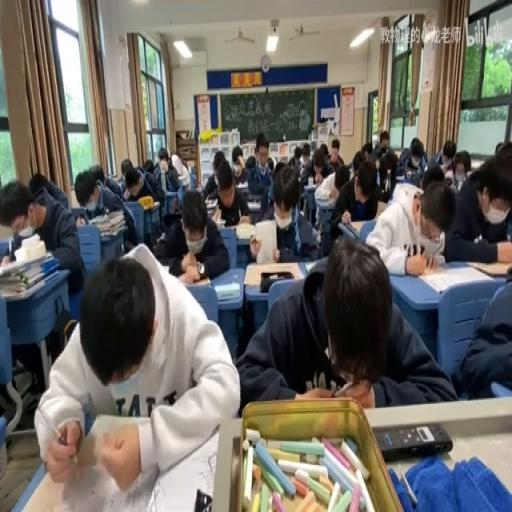calculator: (148, 426, 222, 510), (418, 263, 492, 293), (243, 260, 301, 286), (254, 218, 276, 262), (213, 280, 241, 300), (234, 222, 256, 240), (302, 182, 318, 206), (99, 220, 125, 234), (348, 219, 370, 235), (162, 210, 181, 228), (374, 198, 388, 216), (210, 205, 224, 222), (18, 226, 34, 239), (204, 194, 218, 208), (304, 258, 318, 272), (246, 200, 260, 212), (88, 213, 104, 222), (323, 196, 336, 206), (176, 174, 189, 182), (237, 181, 248, 189), (395, 174, 405, 180)
paper: (37, 243, 238, 484), (234, 234, 450, 410), (0, 176, 82, 309), (443, 148, 512, 260), (150, 185, 228, 280), (262, 165, 320, 257), (326, 158, 381, 250), (243, 131, 275, 206), (120, 164, 162, 219), (200, 148, 235, 203), (397, 135, 428, 184), (152, 148, 182, 195), (376, 150, 398, 200), (96, 164, 122, 200), (312, 142, 334, 179), (421, 162, 444, 192), (229, 145, 246, 184), (371, 130, 390, 160), (28, 171, 48, 199), (334, 165, 350, 195), (452, 149, 470, 175), (288, 144, 302, 174), (496, 142, 512, 164), (351, 150, 364, 174), (442, 141, 454, 161), (124, 179, 138, 196), (362, 139, 372, 161), (272, 161, 286, 176), (119, 158, 131, 173), (300, 142, 309, 161), (142, 156, 154, 170), (189, 164, 196, 186), (245, 155, 254, 171), (331, 145, 339, 157), (266, 155, 272, 169), (332, 158, 338, 168)
person: (374, 422, 452, 461), (193, 488, 212, 509), (249, 212, 262, 225), (406, 168, 412, 178)
